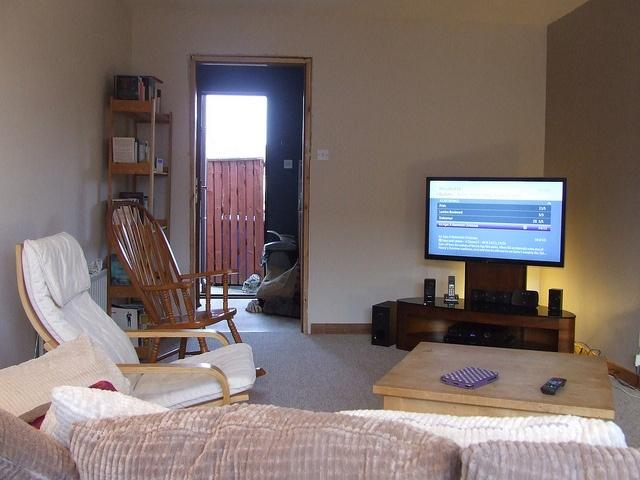AIO PC-Monitor-TV: (423, 174, 567, 267)
Kursi: (106, 198, 238, 330)
Meja: (371, 339, 616, 419)
